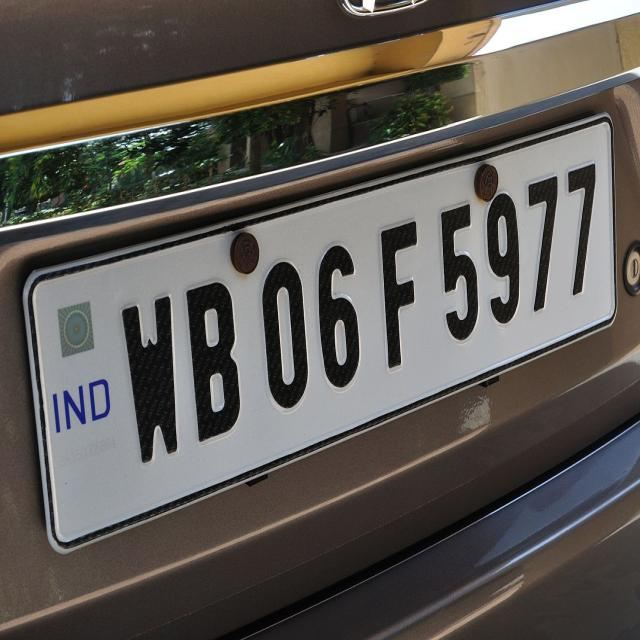plate: (17, 151, 640, 472)
